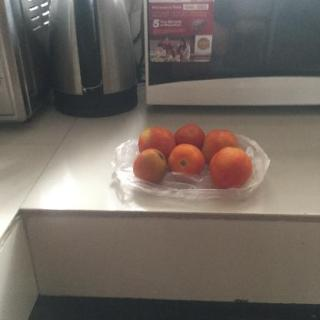Tomat: (120, 118, 271, 207)
